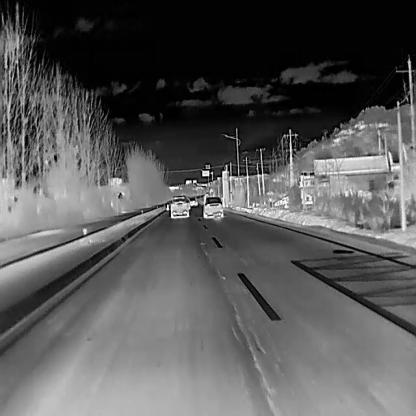car: (170, 194, 189, 219), (203, 196, 223, 218), (273, 196, 290, 206), (187, 195, 198, 206)
